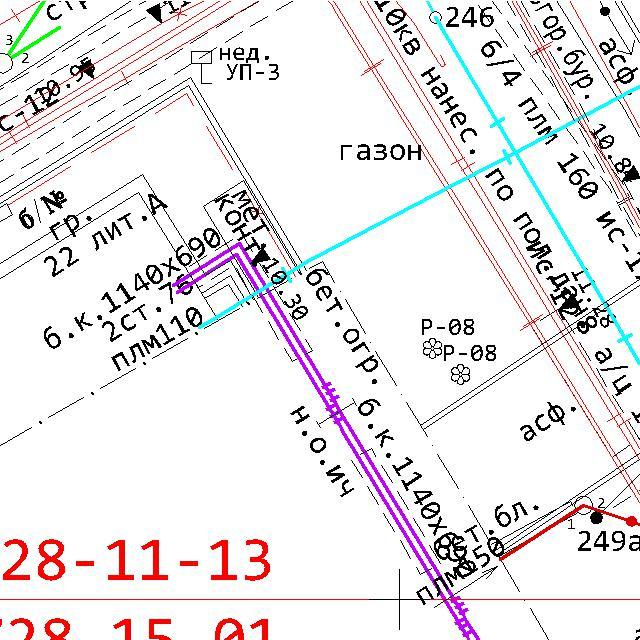asphalt: (597, 37, 640, 97), (519, 401, 578, 444)
bushes: (449, 362, 472, 388), (421, 335, 444, 360)
mark: (144, 2, 164, 25), (250, 246, 272, 266), (558, 292, 580, 312), (620, 163, 640, 184), (77, 58, 95, 81)
sing: (188, 48, 214, 85)
well: (573, 494, 595, 516), (426, 9, 444, 26)
